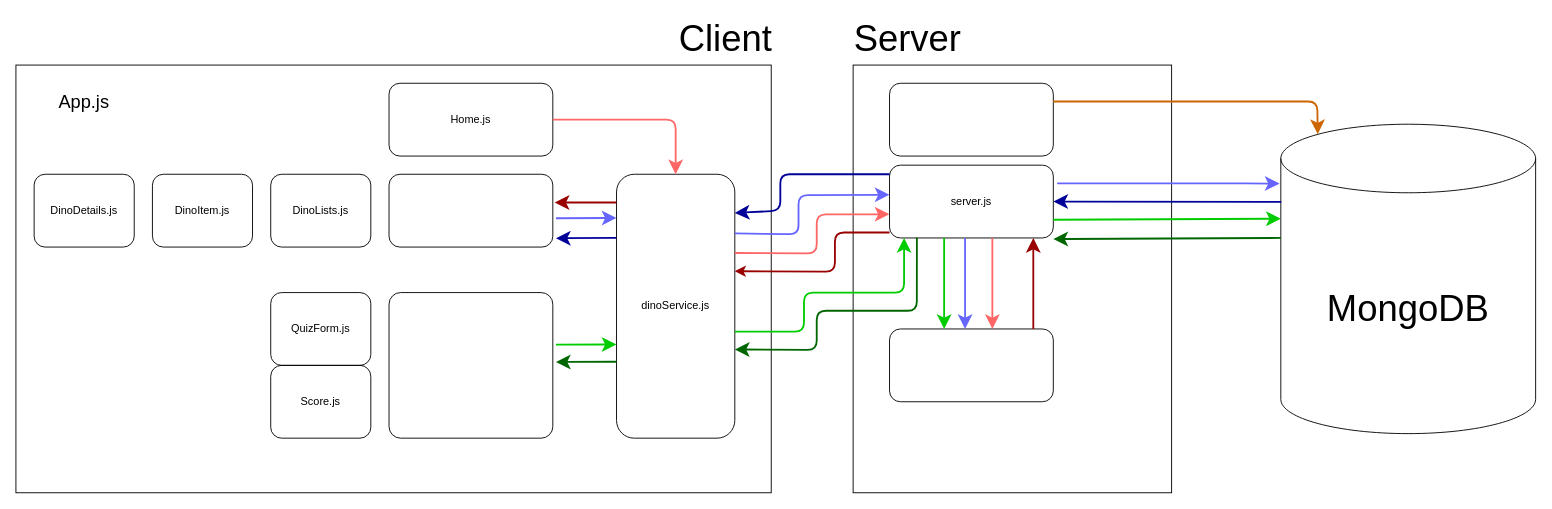
Image size: 1552x509. Some labels were removed from this diagram. The centre of each missing label's shape, as x and y in pixels:
"DInoContainer.js" goes at [470,210].
"QuizContainer.js" goes at [470,365].
"router.js" goes at [971,365].
"seeds.js" goes at [971,119].
